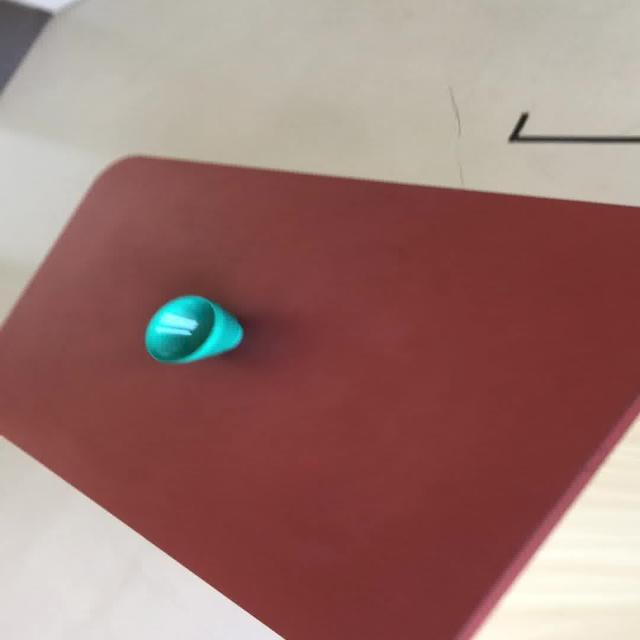bowl: (1, 151, 638, 638), (142, 294, 243, 364)
